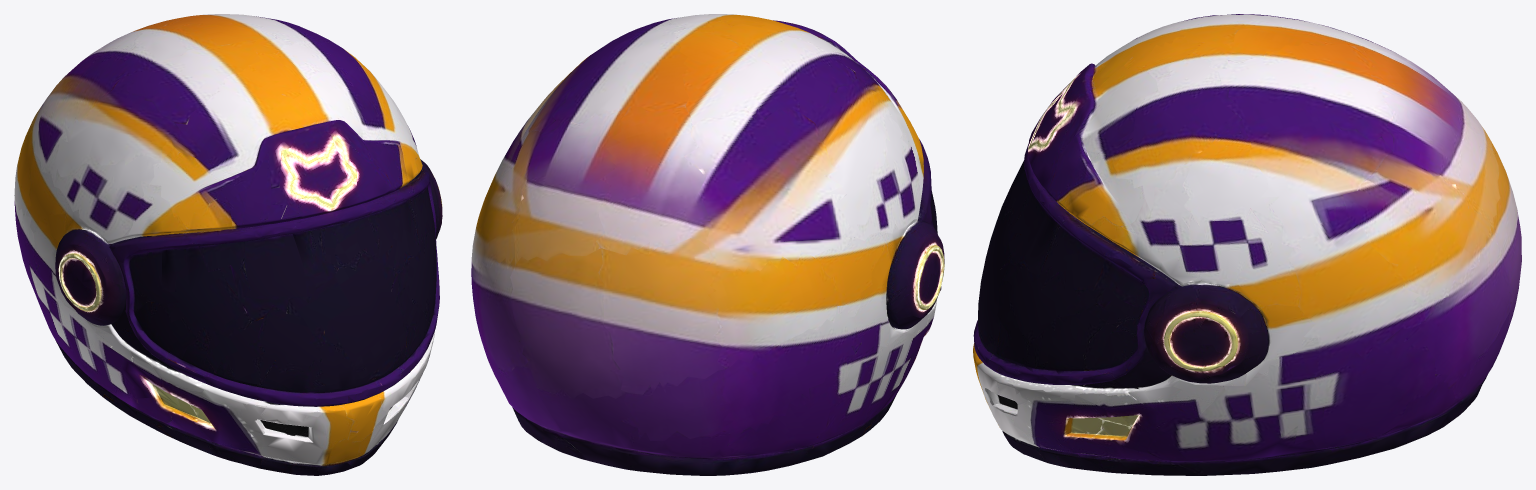
File: helmet.glb
3 views of the same model, side by side, from view 1: azimuth 30°, elevation 25°; view 2: azimuth 150°, elevation 25°; view 3: azimuth 270°, elevation 25° (orthographic). The views are drawn at different scales.
Parts seen in each view (by area): view 1: Shell; view 2: Shell; view 3: Shell.
Boxes of the visible parts, bbox=[...] form: Shell: bbox=[14, 14, 442, 475]; Shell: bbox=[471, 14, 944, 475]; Shell: bbox=[973, 14, 1521, 475].
Size of the model in its own units: 0.5996 by 0.5694 by 0.7108.
Materials: 1 (1 with a texture image).
